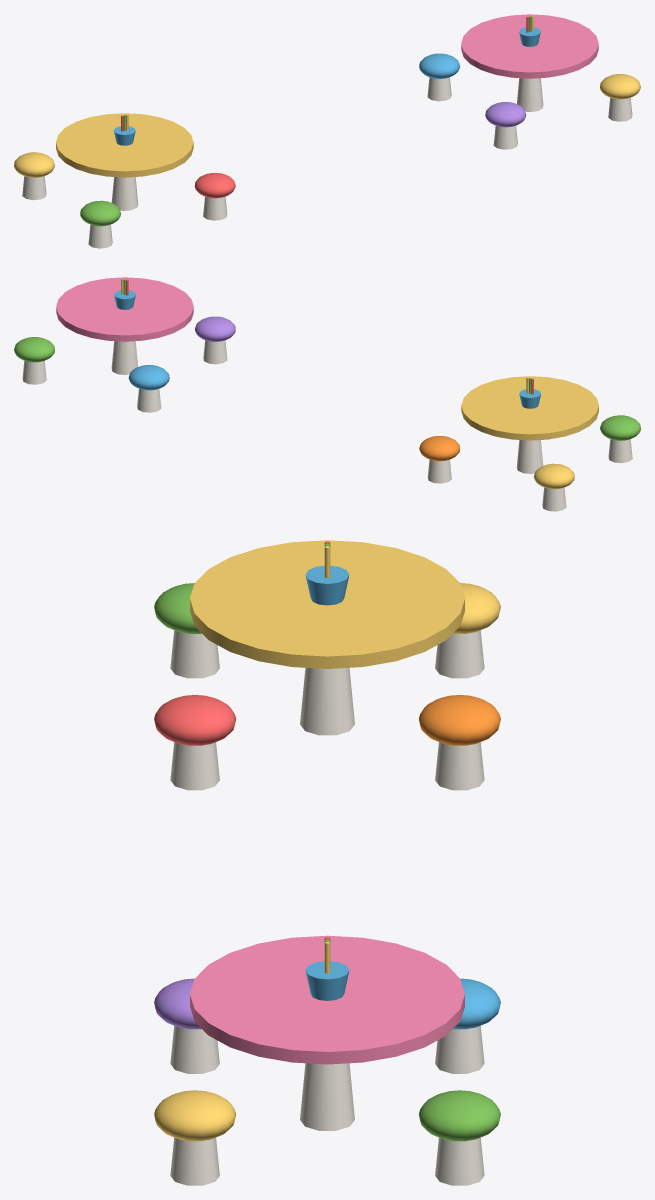
Rendered from kdesk-round.glb.
3 views of the same model, one above another, from view 1: azimuth 30°, elevation 25°; view 2: azimuth 150°, elevation 25°; view 3: azimuth 270°, elevation 25° (orthographic). The views are drawn at different scales.
Size of the model in its own units: 4.66 by 0.72 by 1.26.
